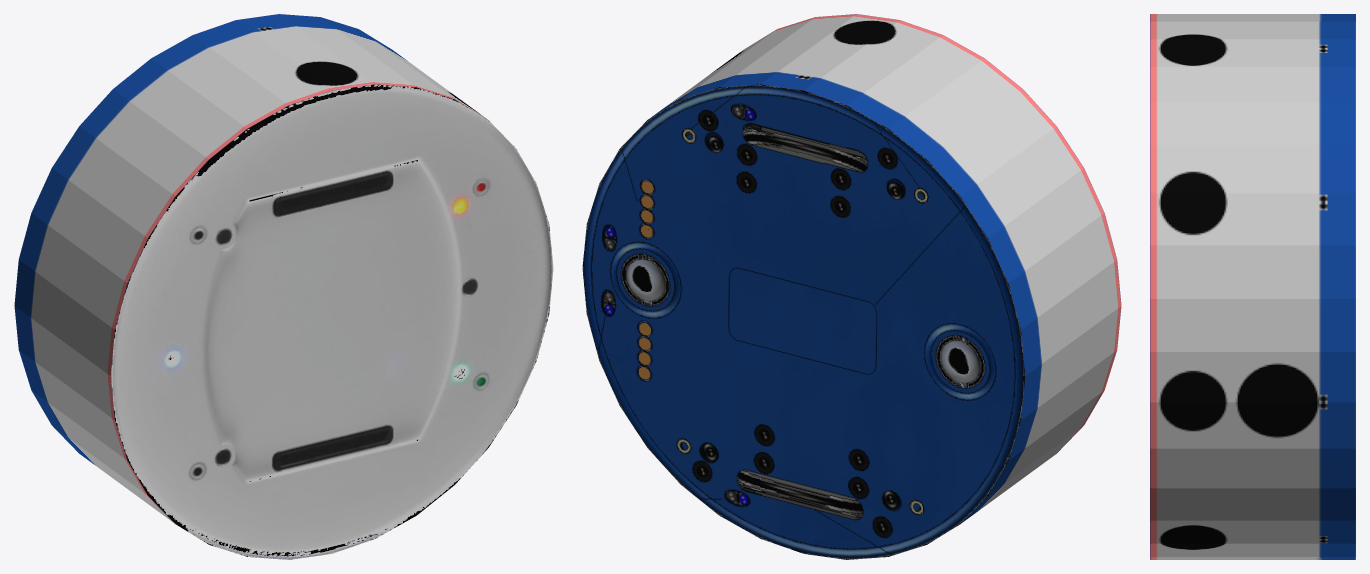
Rendered from KheperaIV.gltf.
The picture shows the model from 3 angles, left to right: view 1: azimuth 30°, elevation 25°; view 2: azimuth 150°, elevation 25°; view 3: azimuth 270°, elevation 25°; orthographic projection. The views are drawn at different scales.
Parts seen in each view (by area): view 1: Cylinder; view 2: Cylinder; view 3: Cylinder.
Part boxes in pixels (<box>): Cylinder: <box>14,14,553,559</box>; Cylinder: <box>582,14,1121,559</box>; Cylinder: <box>1150,14,1355,559</box>.
Bounding box in the file's own units: 2.82 × 2.82 × 1.06.
4 materials, 4 textured.
